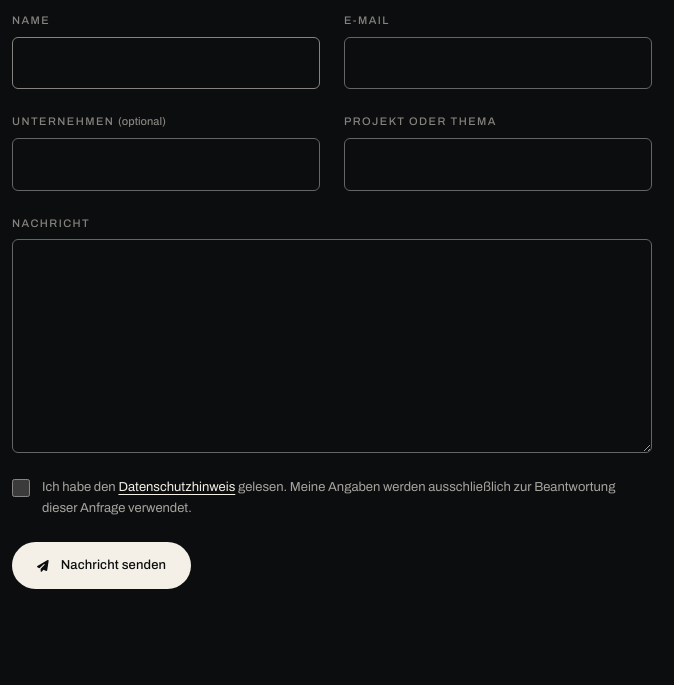
Scenario: Kontaktformular › meldet KEINEN Erfolg bei HTTP 200 mit ok:false
The width and height of the screenshot is (674, 685).
Type "Anna Beispiel" into the field labelled "Name" at {"x": 166, "y": 63}, box [12,36,320,89]
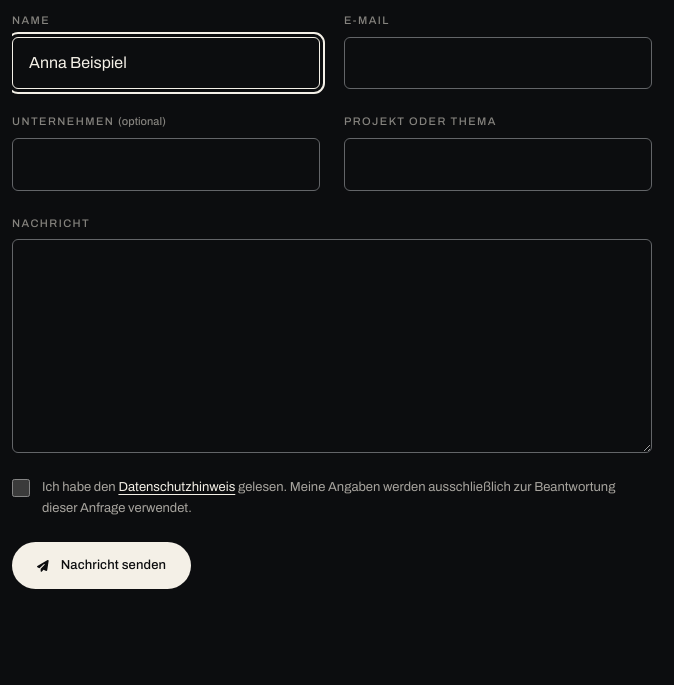
Type "anna@example.com" into the field labelled "E-Mail" at {"x": 498, "y": 63}, box [344,36,652,89]
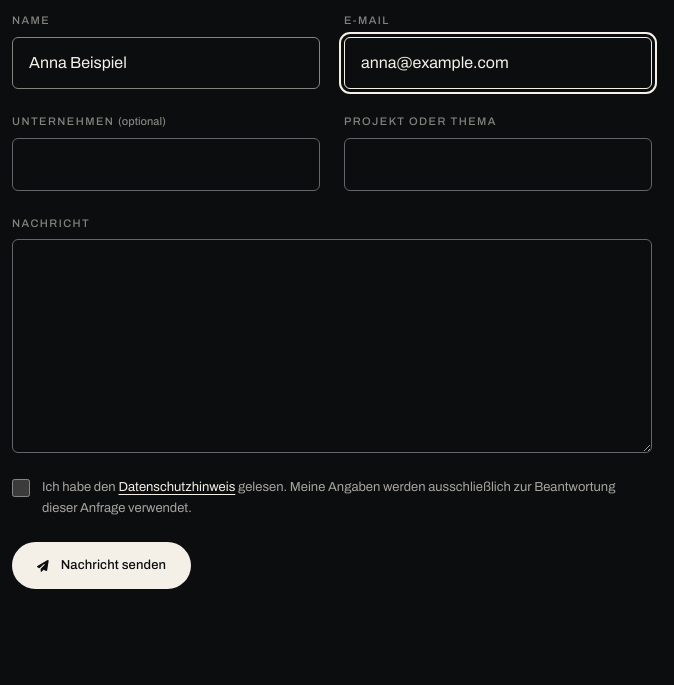
Type "Individuelle Webanwendung" into the field labelled "Projekt oder Thema" at {"x": 498, "y": 164}, box [344,138,652,191]
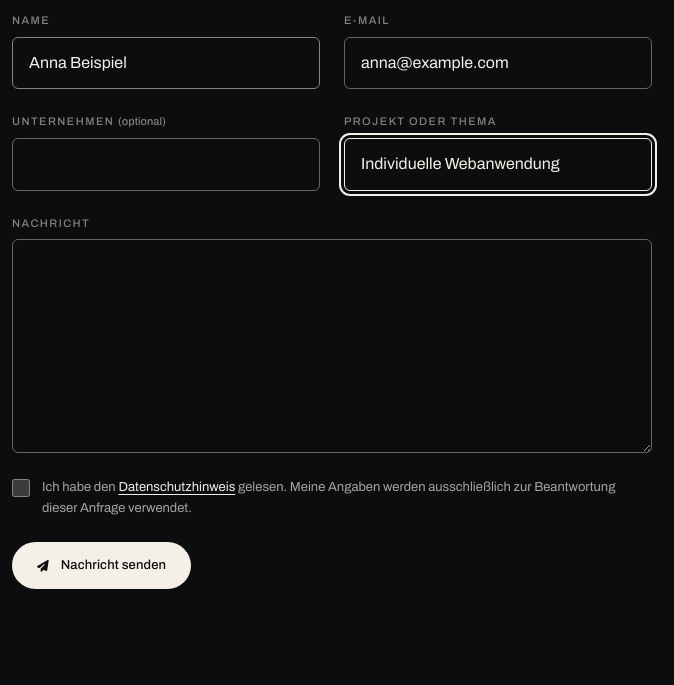
Type "Wir suchen Verstärkung im Produktteam und würden uns gern austauschen." into the text box labelled "Nachricht" at {"x": 332, "y": 346}, box [12,239,652,453]
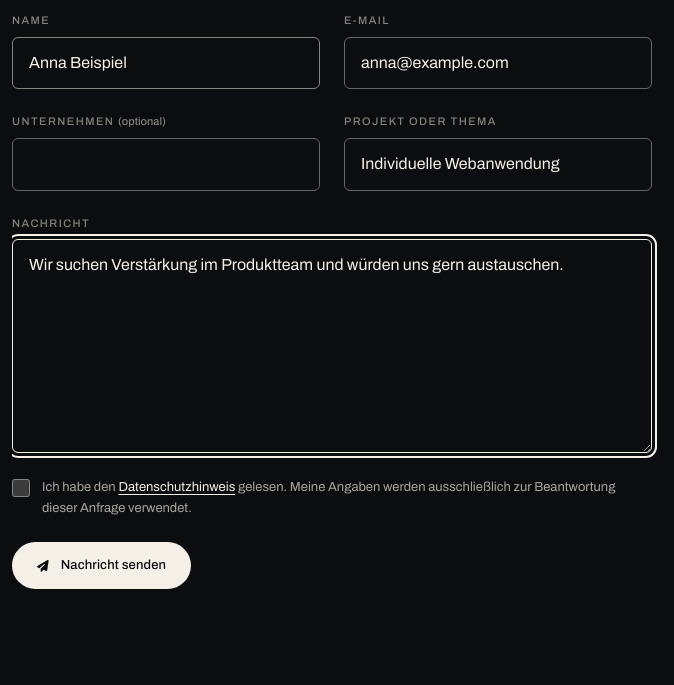
Click the checkbox labelled "Datenschutzhinweis" at {"x": 21, "y": 488}, box [12,479,30,497]
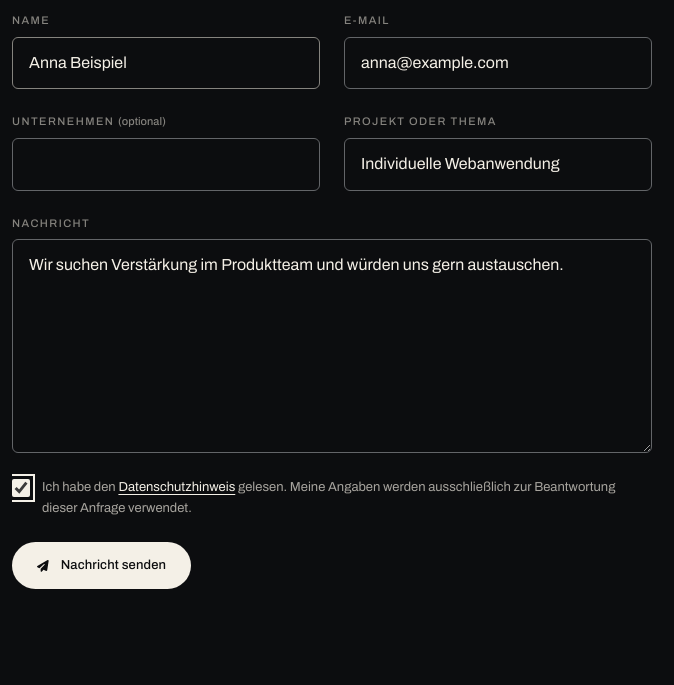
Click the button "Nachricht senden" at {"x": 102, "y": 566}, box [12,542,191,590]
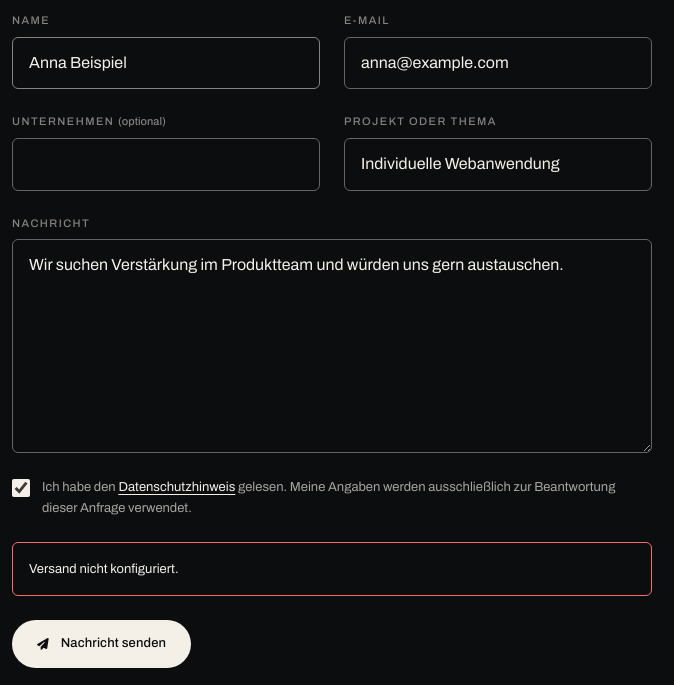
Expected: the message does not show "ist angekommen", [12,542,652,596]
Expected: the message reads "Versand nicht konfiguriert.", [29,562,178,576]
